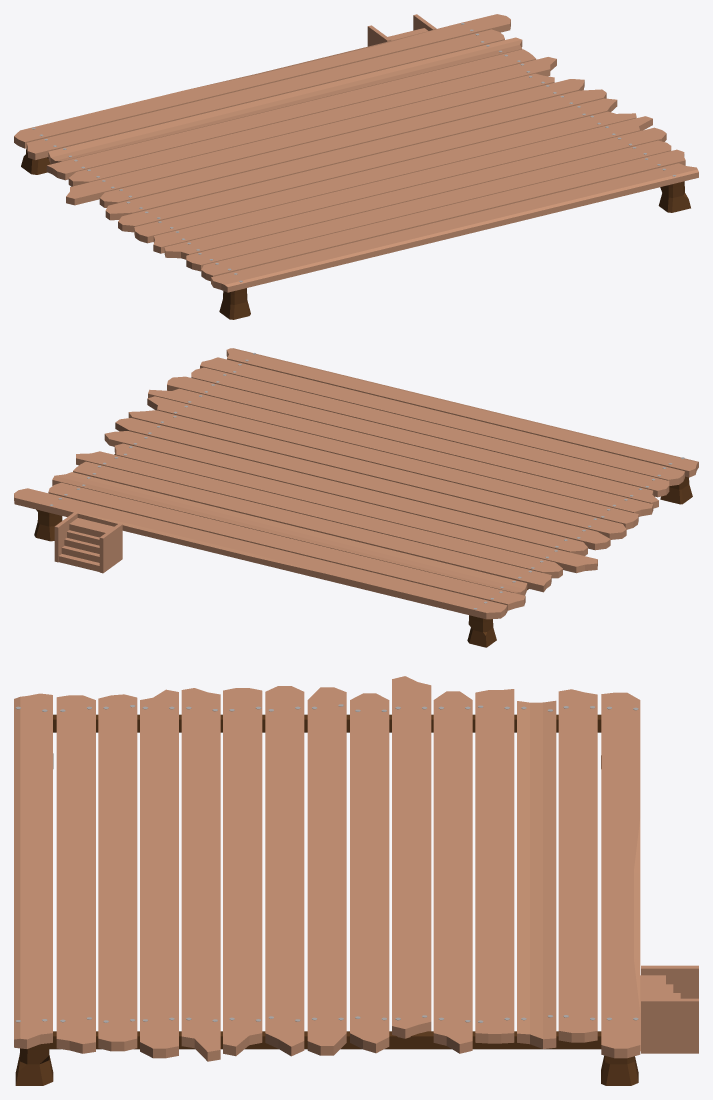
Rendered from LandingPad.fbx.
The picture shows the model from 3 angles, top to bottom: view 1: azimuth 30°, elevation 25°; view 2: azimuth 150°, elevation 25°; view 3: azimuth 270°, elevation 25°; orthographic projection. The views are drawn at different scales.
Parts seen in each view (by area): view 1: Cube.058, Cube.052, Cube.053, Cube.054, Cube.055, Cube.057, Cube.056, Cube.051, Cube.050, Cube.064; view 2: Cube.058, Cube.052, Cube.053, Cube.055, Cube.054, Cube.057, Cube.056, Cube.051, Cube.050, Cube.064, Cube.063; view 3: Cube.054, Cube.052, Cube.053, Cube.055, Cube.057, Cube.058, Cube.056, Cube.051, Cube.064, Cube.066, Cube.050, Cube.065 (+1 smaller).
Boxes of the visible parts, x1,y1,x2,y2 form: Cube.058: (14,14,698,292); Cube.052: (99,79,617,232); Cube.053: (66,73,636,243); Cube.054: (68,57,652,253); Cube.055: (46,49,666,259); Cube.057: (26,29,685,281); Cube.056: (48,37,671,271); Cube.051: (105,89,606,220); Cube.050: (21,148,690,319); Cube.064: (367,14,436,46); Cube.058: (14,348,698,619); Cube.052: (104,410,626,555); Cube.053: (114,396,638,573); Cube.055: (73,376,658,592); Cube.054: (76,388,653,578); Cube.057: (48,357,684,610); Cube.056: (52,367,669,595); Cube.051: (115,418,610,550); Cube.050: (34,476,692,647); Cube.064: (54,512,122,573); Cube.063: (69,518,113,537); Cube.054: (181,688,472,1061); Cube.052: (265,686,389,1056); Cube.053: (223,676,431,1056); Cube.055: (140,689,514,1058); Cube.057: (56,689,597,1053); Cube.058: (14,692,640,1058); Cube.056: (98,694,556,1051); Cube.051: (307,687,346,1055); Cube.064: (641,965,698,1053); Cube.066: (49,1031,601,1049); Cube.050: (15,753,638,1085); Cube.065: (53,714,601,732).
Bounding box in the file's own units: 4544 × 301 × 3498.
